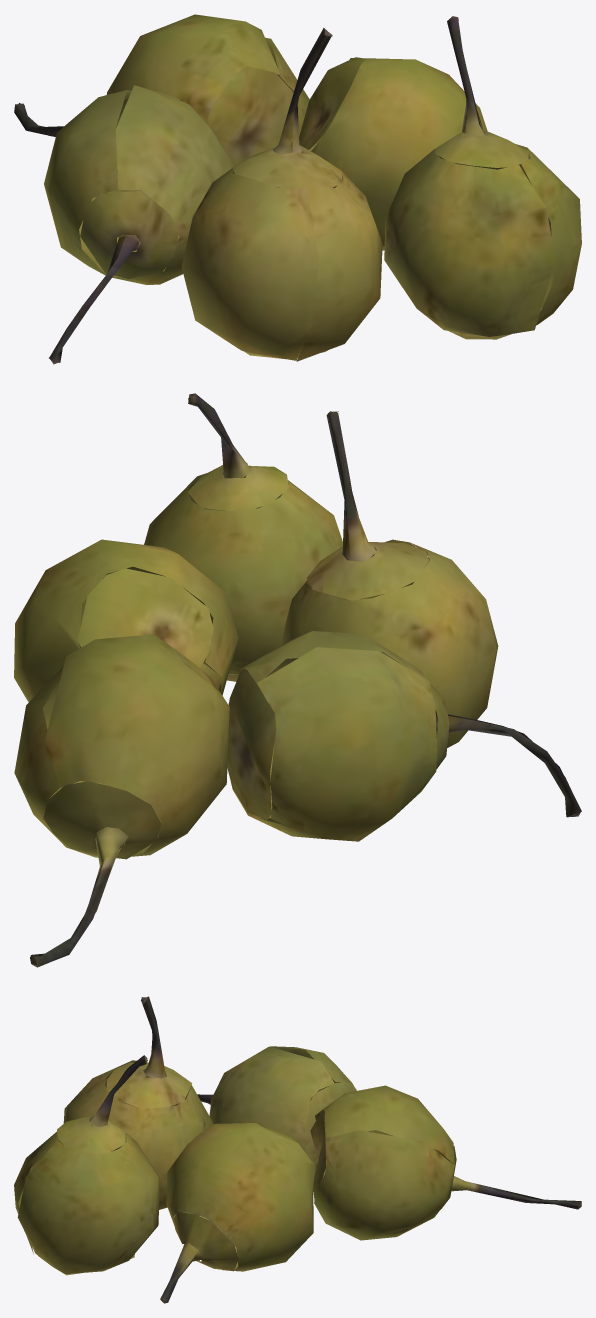
Rendered from food_pears_asian_01.glb.
The picture shows the model from 3 angles, top to bottom: view 1: azimuth 30°, elevation 25°; view 2: azimuth 150°, elevation 25°; view 3: azimuth 270°, elevation 25°; orthographic projection. The views are drawn at different scales.
Visible parts, largest first — view 1: food_pears_asian_01_b; view 2: food_pears_asian_01_b; view 3: food_pears_asian_01_b.
Boxes of the visible parts, left/top/right/bottom form: food_pears_asian_01_b: left=14, top=14, right=581, bottom=364; food_pears_asian_01_b: left=14, top=393, right=581, bottom=967; food_pears_asian_01_b: left=14, top=996, right=581, bottom=1303.
Bounding box in the file's own units: 0.1262 × 0.0716 × 0.167.
Materials: 1 (1 with a texture image).
